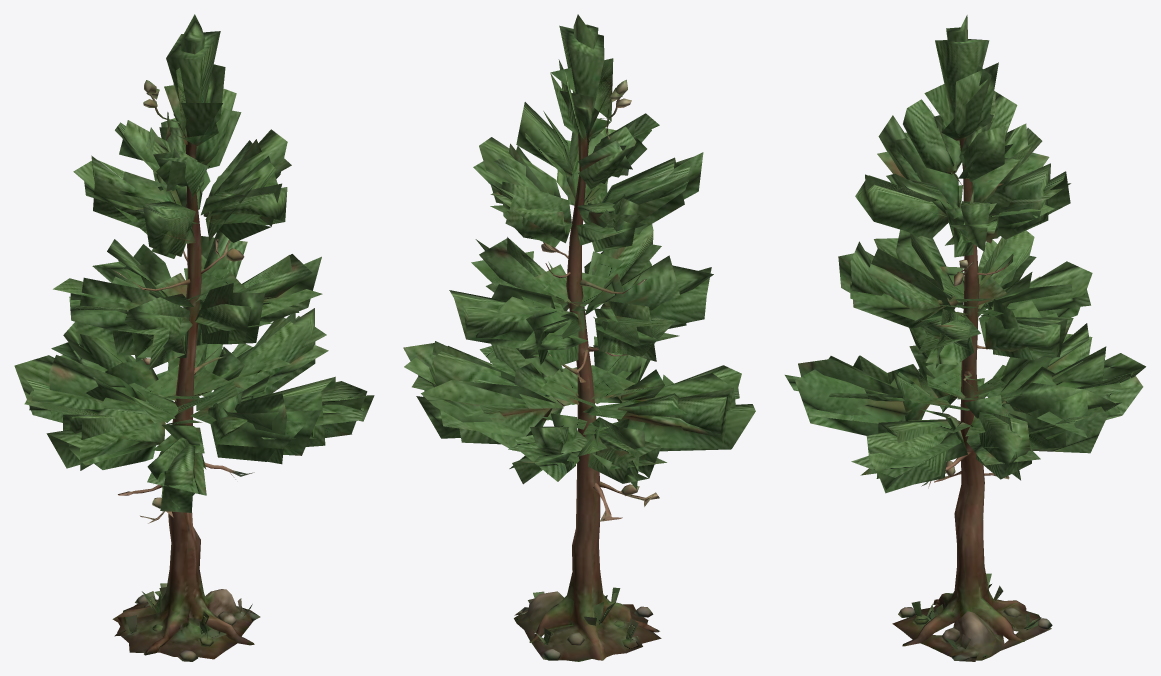
Rendered from pine_young.glb.
The picture shows the model from 3 angles, left to right: view 1: azimuth 30°, elevation 25°; view 2: azimuth 150°, elevation 25°; view 3: azimuth 270°, elevation 25°; orthographic projection.
Size of the model in its own units: 0.5049 by 0.9526 by 0.5053.
Materials: 1 (1 with a texture image).
